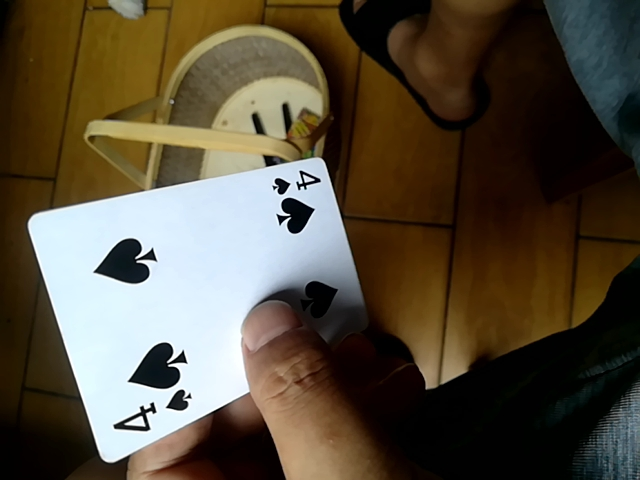ht 4: (33, 154, 357, 466)
